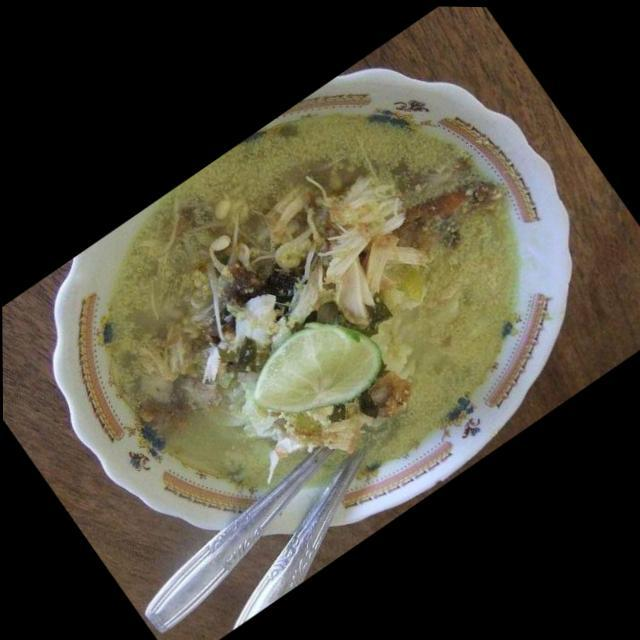Soto: (137, 148, 521, 486)
